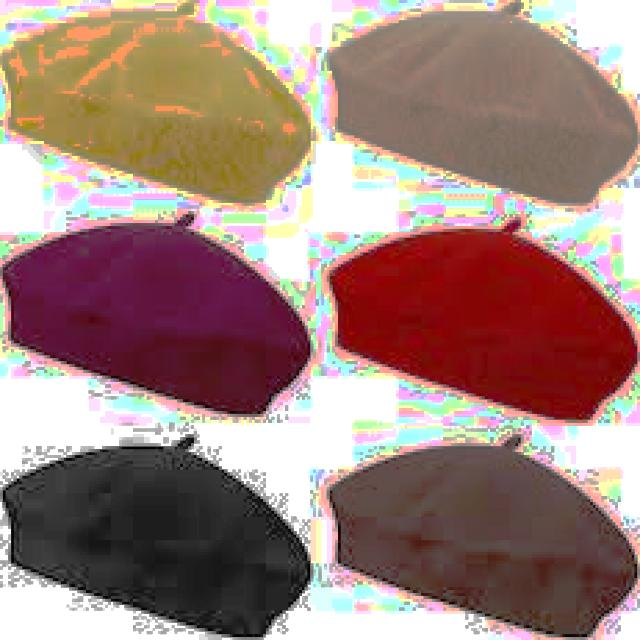TOPI: (0, 202, 310, 419), (319, 214, 637, 420), (0, 425, 310, 631), (324, 0, 635, 203), (324, 432, 635, 631), (6, 3, 313, 203)
